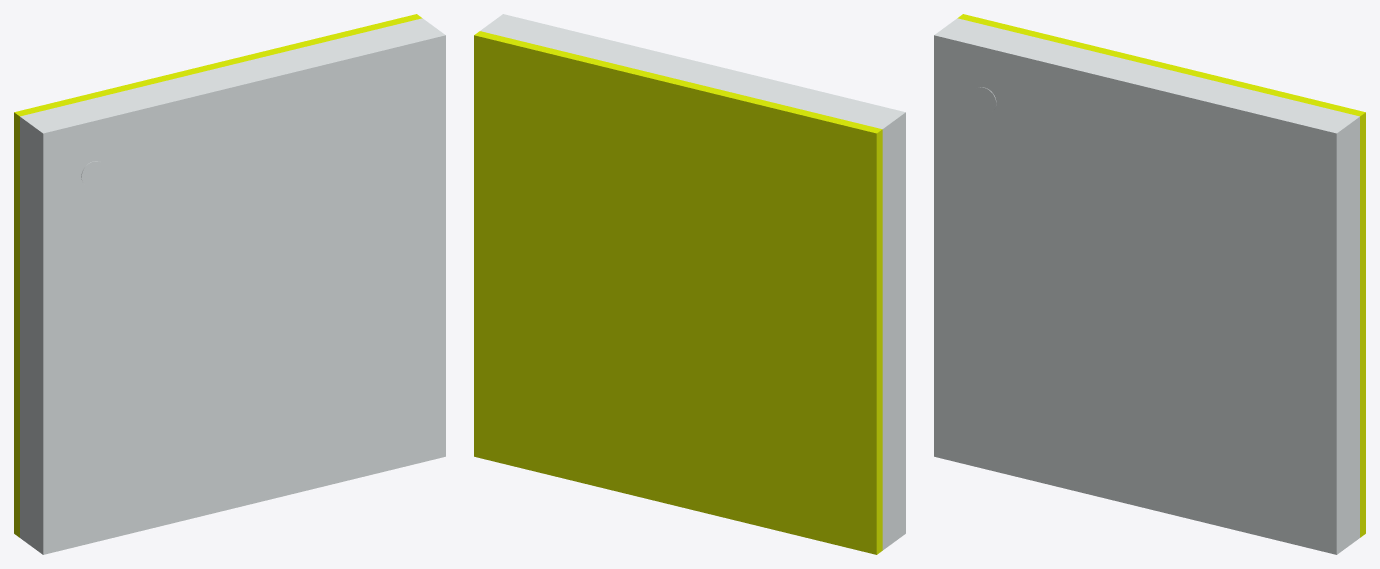
The model's file is mcu.glb.
3 views of the same model, side by side, from view 1: azimuth 30°, elevation 25°; view 2: azimuth 150°, elevation 25°; view 3: azimuth 330°, elevation 25° (orthographic).
Parts seen in each view (by area): view 1: mcu; view 2: mcu; view 3: mcu.
Boxes of the visible parts, left/top/right/bottom form: mcu: left=14, top=14, right=445, bottom=554; mcu: left=474, top=14, right=905, bottom=554; mcu: left=934, top=14, right=1365, bottom=554.
Size of the model in its own units: 0.008 by 0.008 by 0.00101.
